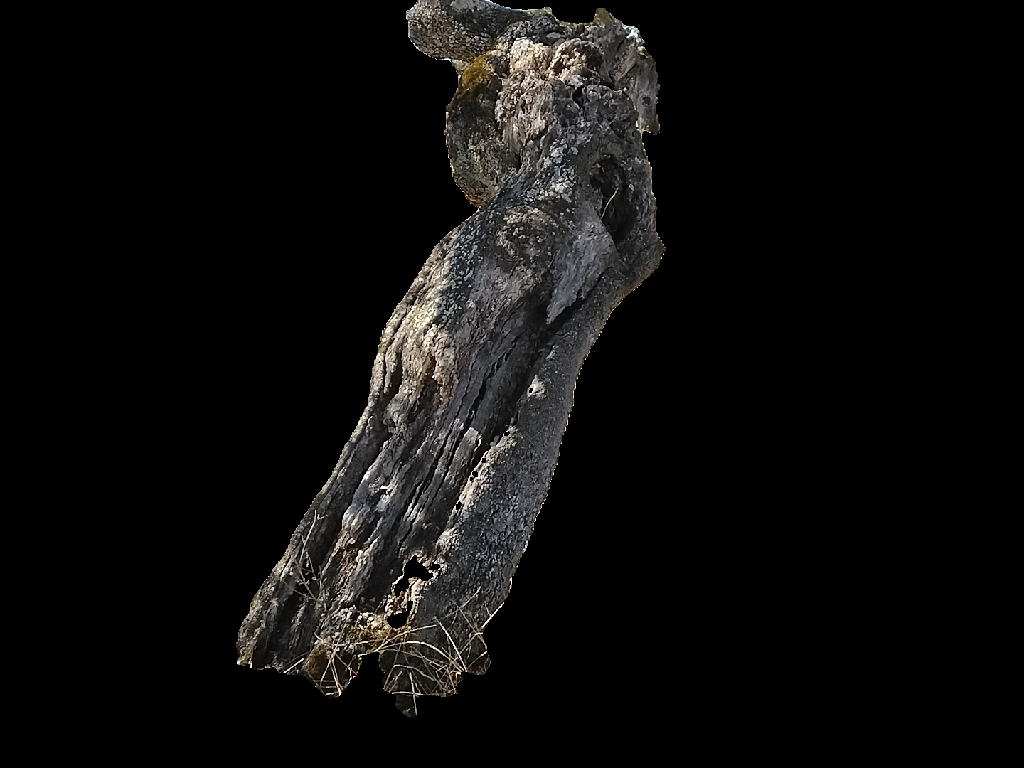Cut: (404, 375, 471, 525), (425, 376, 486, 521), (397, 507, 420, 558)
Hole: (591, 154, 636, 248), (394, 553, 434, 596), (387, 601, 412, 628), (573, 86, 584, 109), (516, 153, 522, 171), (430, 564, 439, 571)
Injure: (236, 240, 612, 697), (611, 231, 664, 311)
